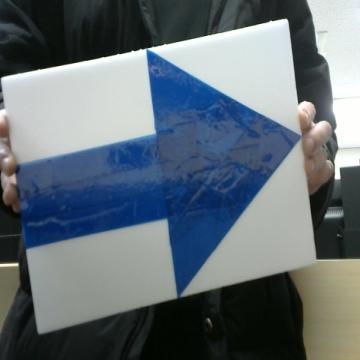blue_right: (17, 50, 299, 296)
